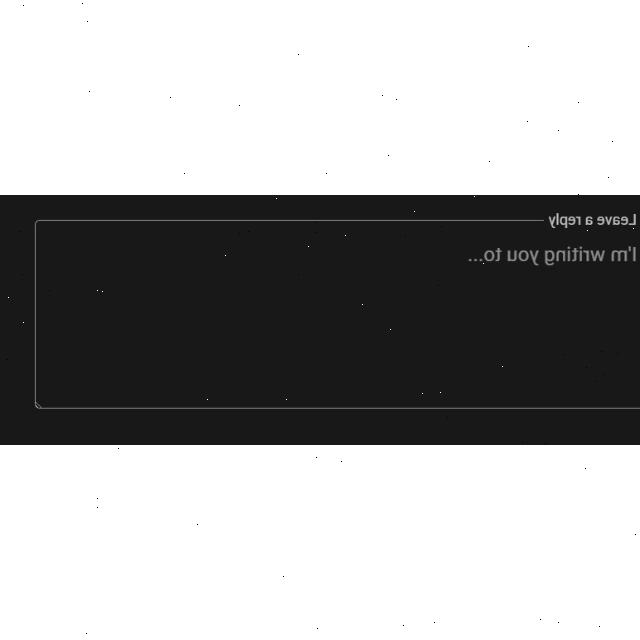VTextarea: (34, 213, 640, 411)
